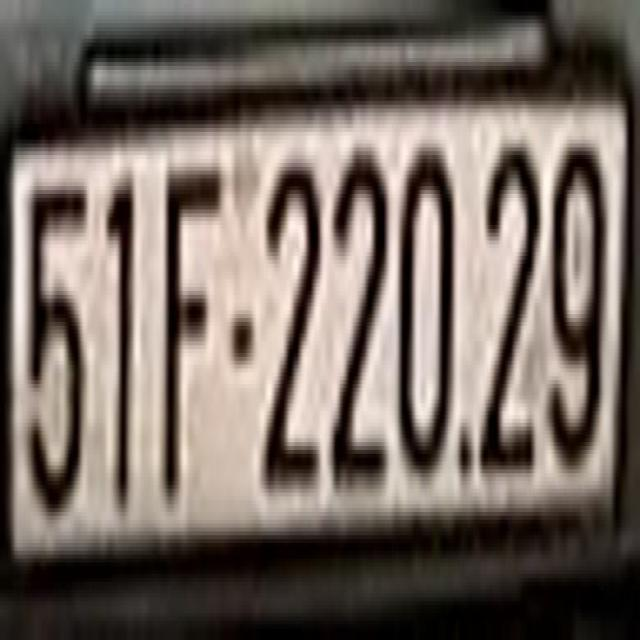0: (393, 124, 452, 473)
1: (104, 159, 134, 516)
2: (260, 159, 323, 504), (328, 148, 389, 500), (479, 128, 538, 470)
5: (29, 167, 88, 520)
9: (547, 143, 605, 481)
F: (160, 148, 223, 528)
